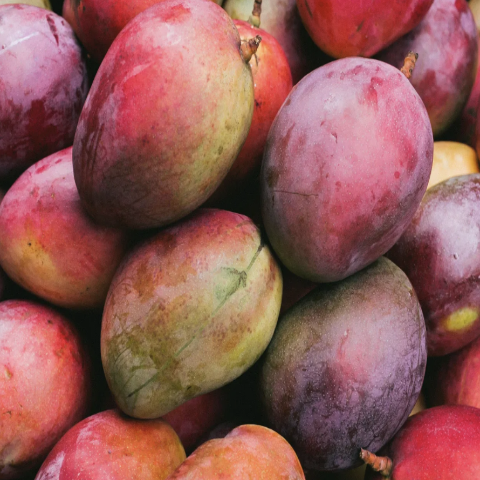mango: (50, 0, 274, 240), (259, 27, 439, 285), (77, 206, 304, 409), (252, 252, 437, 476)
